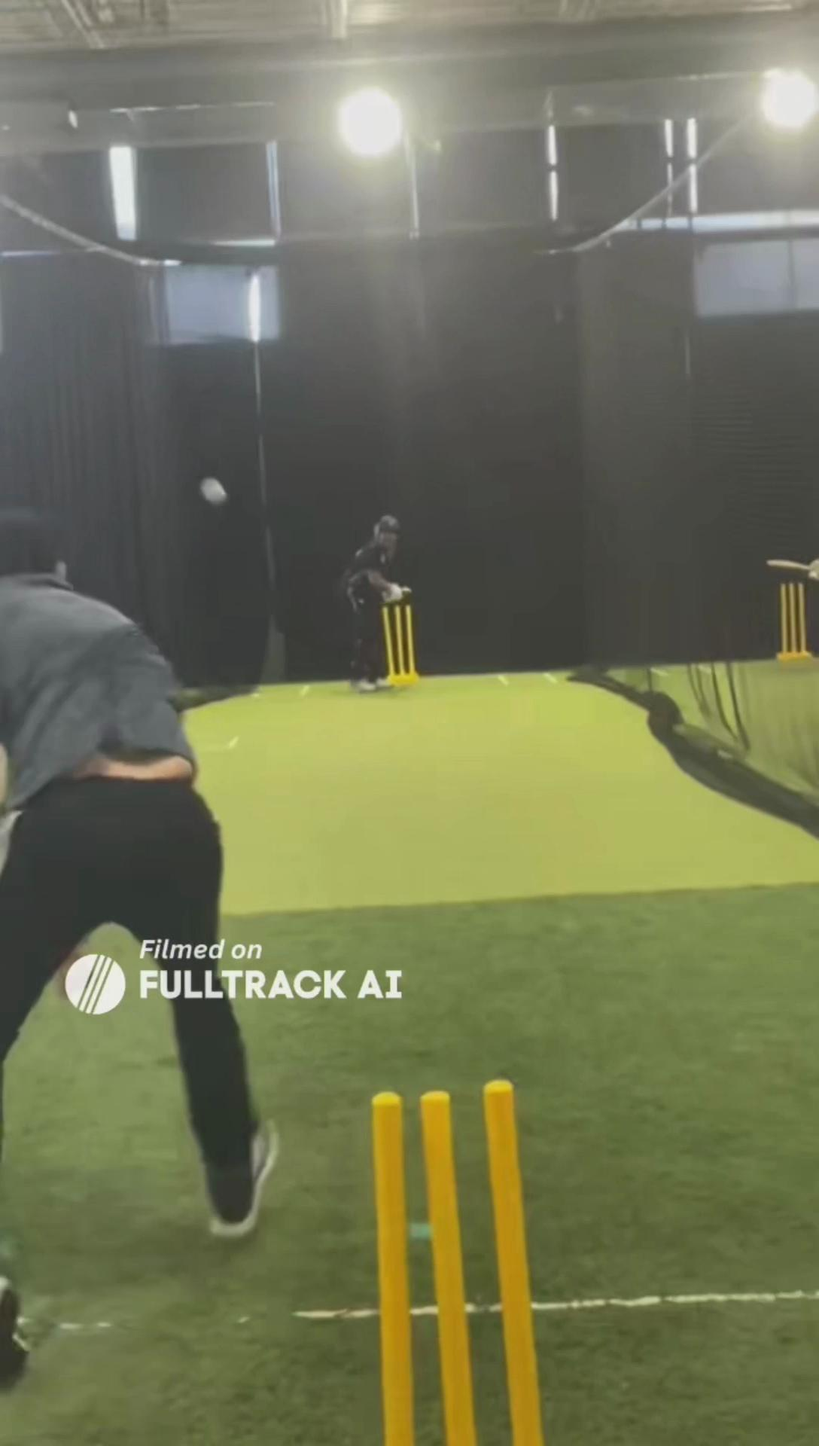ball: (196, 473, 229, 506)
